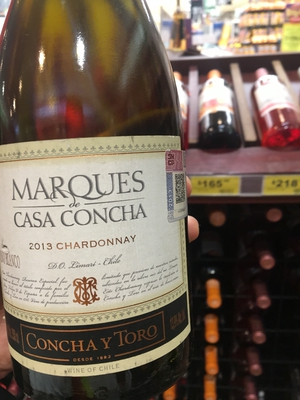marques de casa concha chardonnay: (1, 16, 206, 384)
